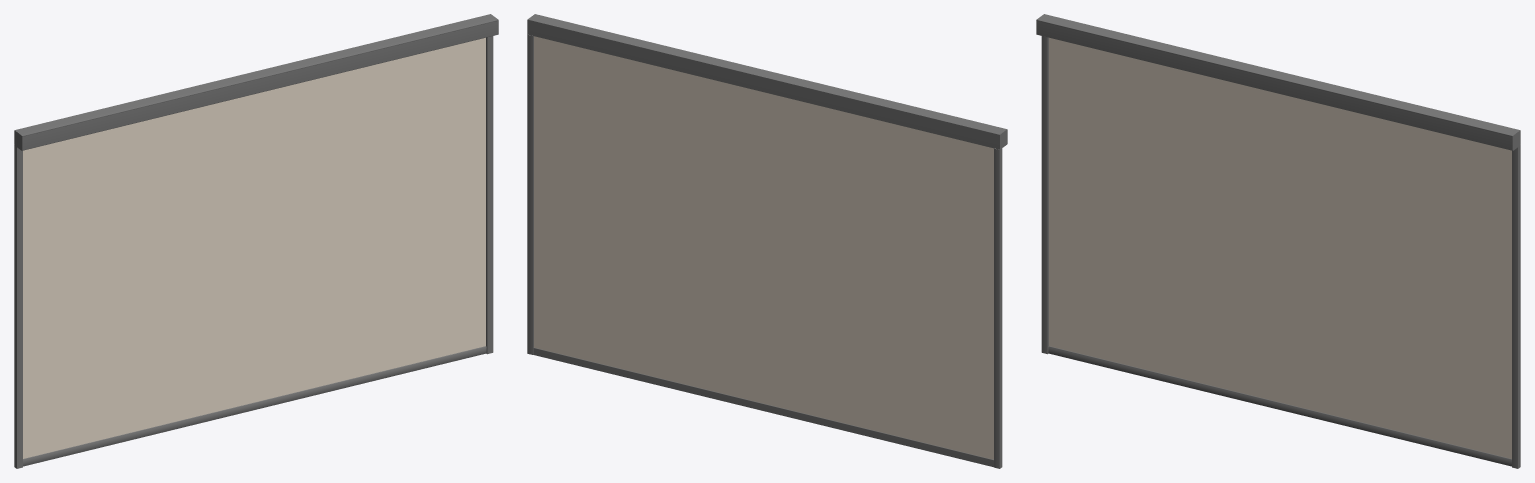
File: Zip 4.glb
The picture shows the model from 3 angles, left to right: view 1: azimuth 30°, elevation 25°; view 2: azimuth 150°, elevation 25°; view 3: azimuth 330°, elevation 25°; orthographic projection.
Visible parts, largest first — view 1: 3DGeom-1, 3DGeom-7, 3DGeom-8, 3DGeom-5, 3DGeom-2; view 2: 3DGeom-1, 3DGeom-7, 3DGeom-8, 3DGeom-5, 3DGeom-2; view 3: 3DGeom-1, 3DGeom-7, 3DGeom-8, 3DGeom-2, 3DGeom-5.
Boxes of the visible parts, box(x1,y1,x2,y2) form: 3DGeom-1: box(23, 37, 485, 458); 3DGeom-7: box(15, 14, 498, 150); 3DGeom-8: box(23, 346, 486, 466); 3DGeom-5: box(14, 145, 22, 468); 3DGeom-2: box(486, 36, 493, 354); 3DGeom-1: box(534, 36, 993, 459); 3DGeom-7: box(527, 14, 1006, 149); 3DGeom-8: box(533, 347, 993, 467); 3DGeom-5: box(994, 148, 1002, 468); 3DGeom-2: box(527, 34, 533, 354); 3DGeom-1: box(1049, 37, 1511, 458); 3DGeom-7: box(1036, 14, 1519, 150); 3DGeom-8: box(1048, 346, 1511, 466); 3DGeom-2: box(1512, 145, 1520, 468); 3DGeom-5: box(1041, 36, 1048, 354).
Size of the model in its own units: 3.93 by 2.65 by 0.1113.
